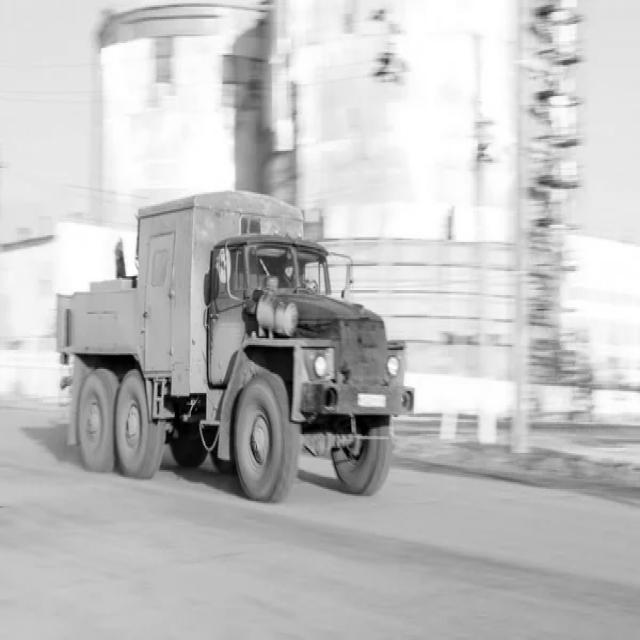Truck: (56, 192, 414, 502)
